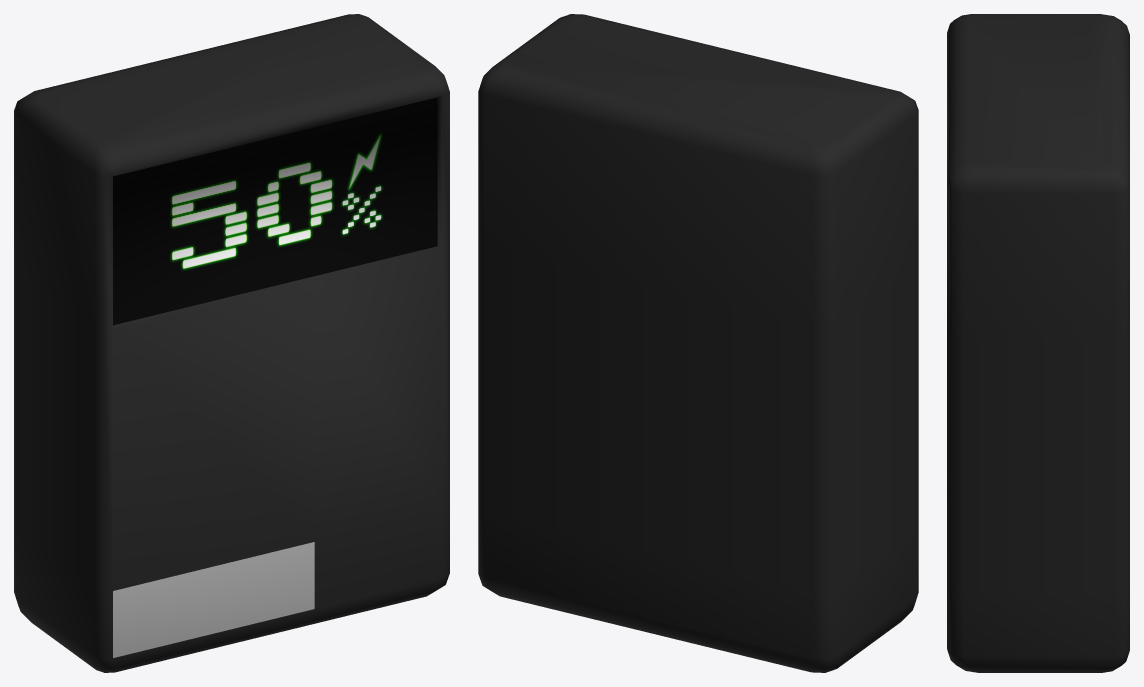
Rendered from PowerBattery.fbx.
3 renders of one model, left to right at view 1: azimuth 30°, elevation 25°; view 2: azimuth 150°, elevation 25°; view 3: azimuth 270°, elevation 25°, orthographic. The views are drawn at different scales.
Visible parts, largest first — view 1: Cube; view 2: Cube; view 3: Cube.
Boxes of the visible parts, left/top/right/bottom form: Cube: left=14, top=14, right=449, bottom=672; Cube: left=478, top=14, right=918, bottom=672; Cube: left=947, top=14, right=1129, bottom=672.
Size of the model in its own units: 141 by 200 by 65.54.
